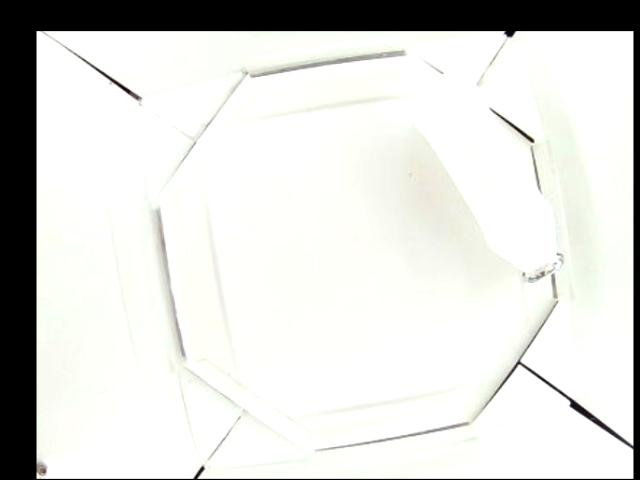Bottle: (407, 69, 563, 287)
